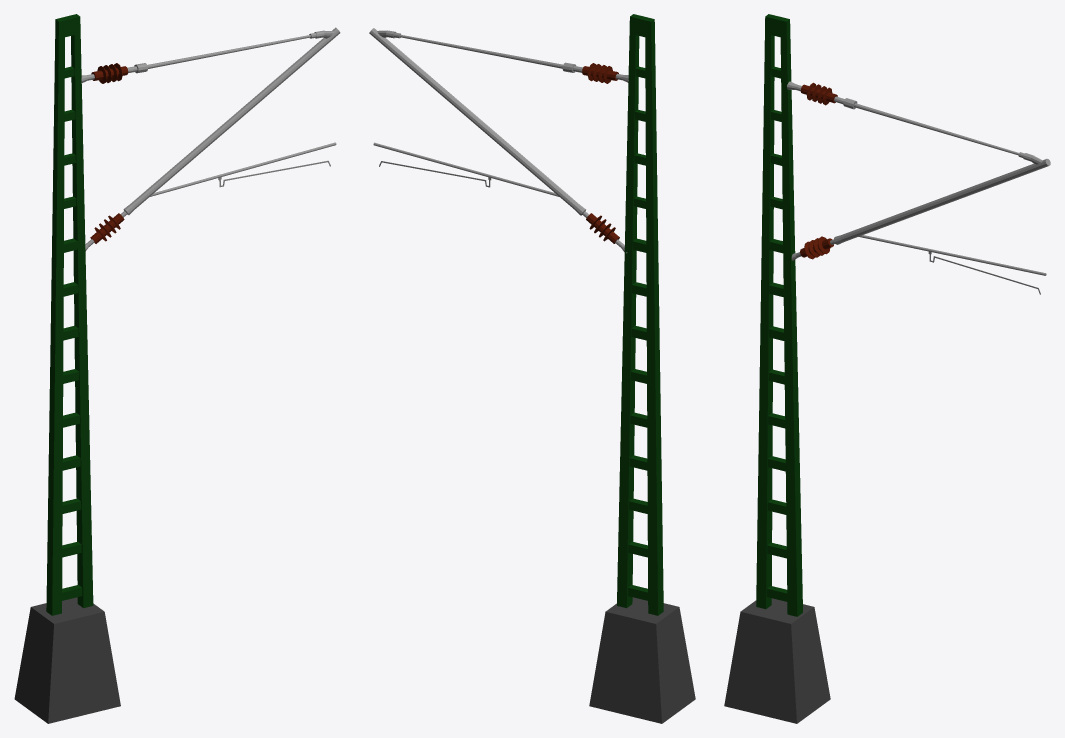
Rendered from Pole1.obj.
The picture shows the model from 3 angles, left to right: view 1: azimuth 30°, elevation 25°; view 2: azimuth 150°, elevation 25°; view 3: azimuth 330°, elevation 25°; orthographic projection.
Visible parts, largest first — view 1: Cube_Cube.001; view 2: Cube_Cube.001; view 3: Cube_Cube.001.
Boxes of the visible parts, x1,y1,x2,y2 form: Cube_Cube.001: (14,14,340,723); Cube_Cube.001: (369,14,695,723); Cube_Cube.001: (724,14,1050,723).
Bounding box in the file's own units: 4.03 × 8.56 × 0.7631.
